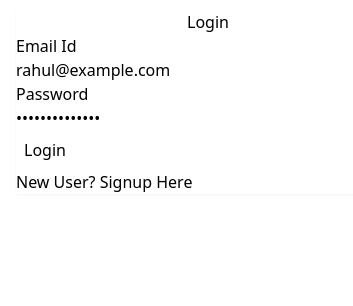
Test case: Login component › Should toggle between Login and Signup form
This screenshot has width=353, height=306.
Note: Switch to Signup form
Click the text "New User? Signup Here". click: (104, 182)
box: [16, 171, 192, 193]
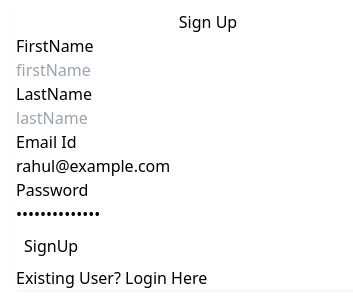
Now the field with placeholder "FirstName" is shown, box [16, 58, 336, 82]
Now the field with placeholder "LastName" is shown, box [16, 106, 336, 130]
Now the button "SignUp" is shown, box [24, 234, 78, 258]
Note: Switch back to Login form
Click the text "Existing User? Login Here". click: (112, 278)
box: [16, 267, 207, 289]
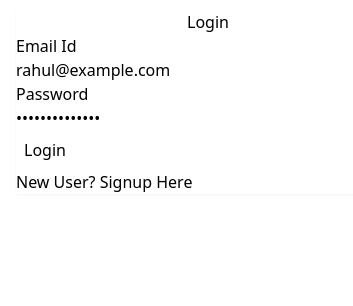
Now the text with placeholder "FirstName" is gone
Now the button "Login" is shown, box [24, 138, 66, 162]
